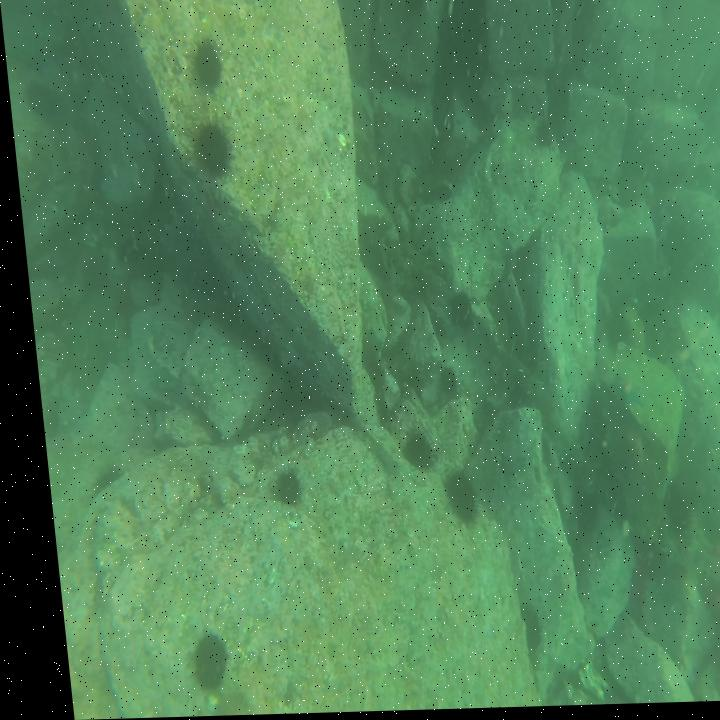echinus: (172, 633, 222, 694), (189, 122, 233, 183), (434, 468, 471, 529), (191, 32, 227, 92), (394, 429, 431, 481), (19, 76, 61, 120), (76, 464, 113, 502), (441, 291, 472, 334), (258, 471, 293, 509), (502, 605, 529, 648), (527, 120, 553, 154), (431, 368, 454, 403)
